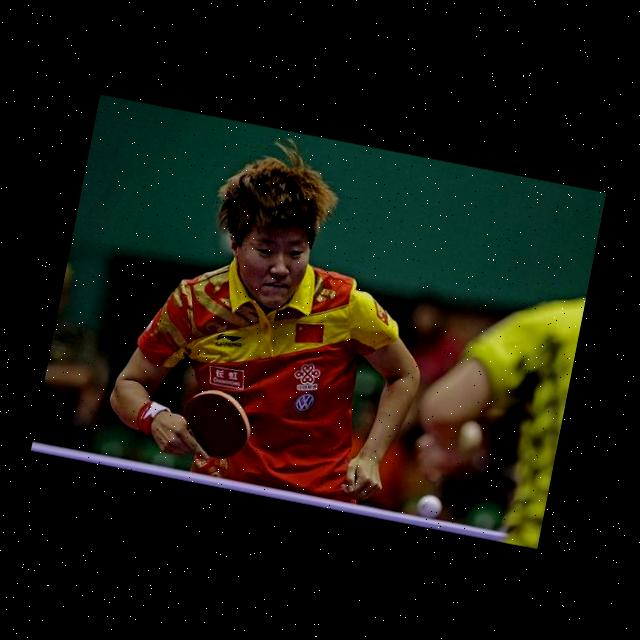ping-pong-ball: (414, 491, 444, 521)
